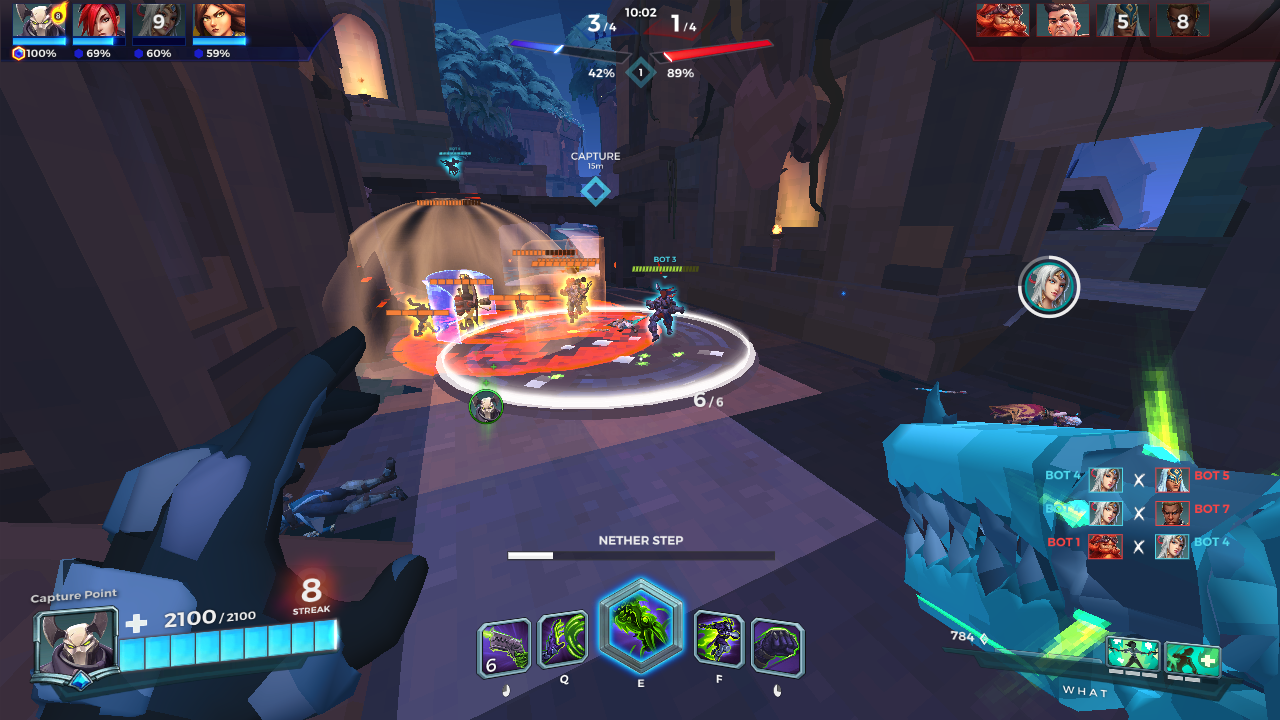model: (556, 272, 588, 326), (575, 271, 601, 317)
